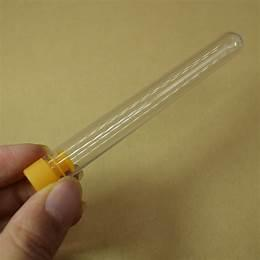Test tube: (18, 13, 258, 194)
